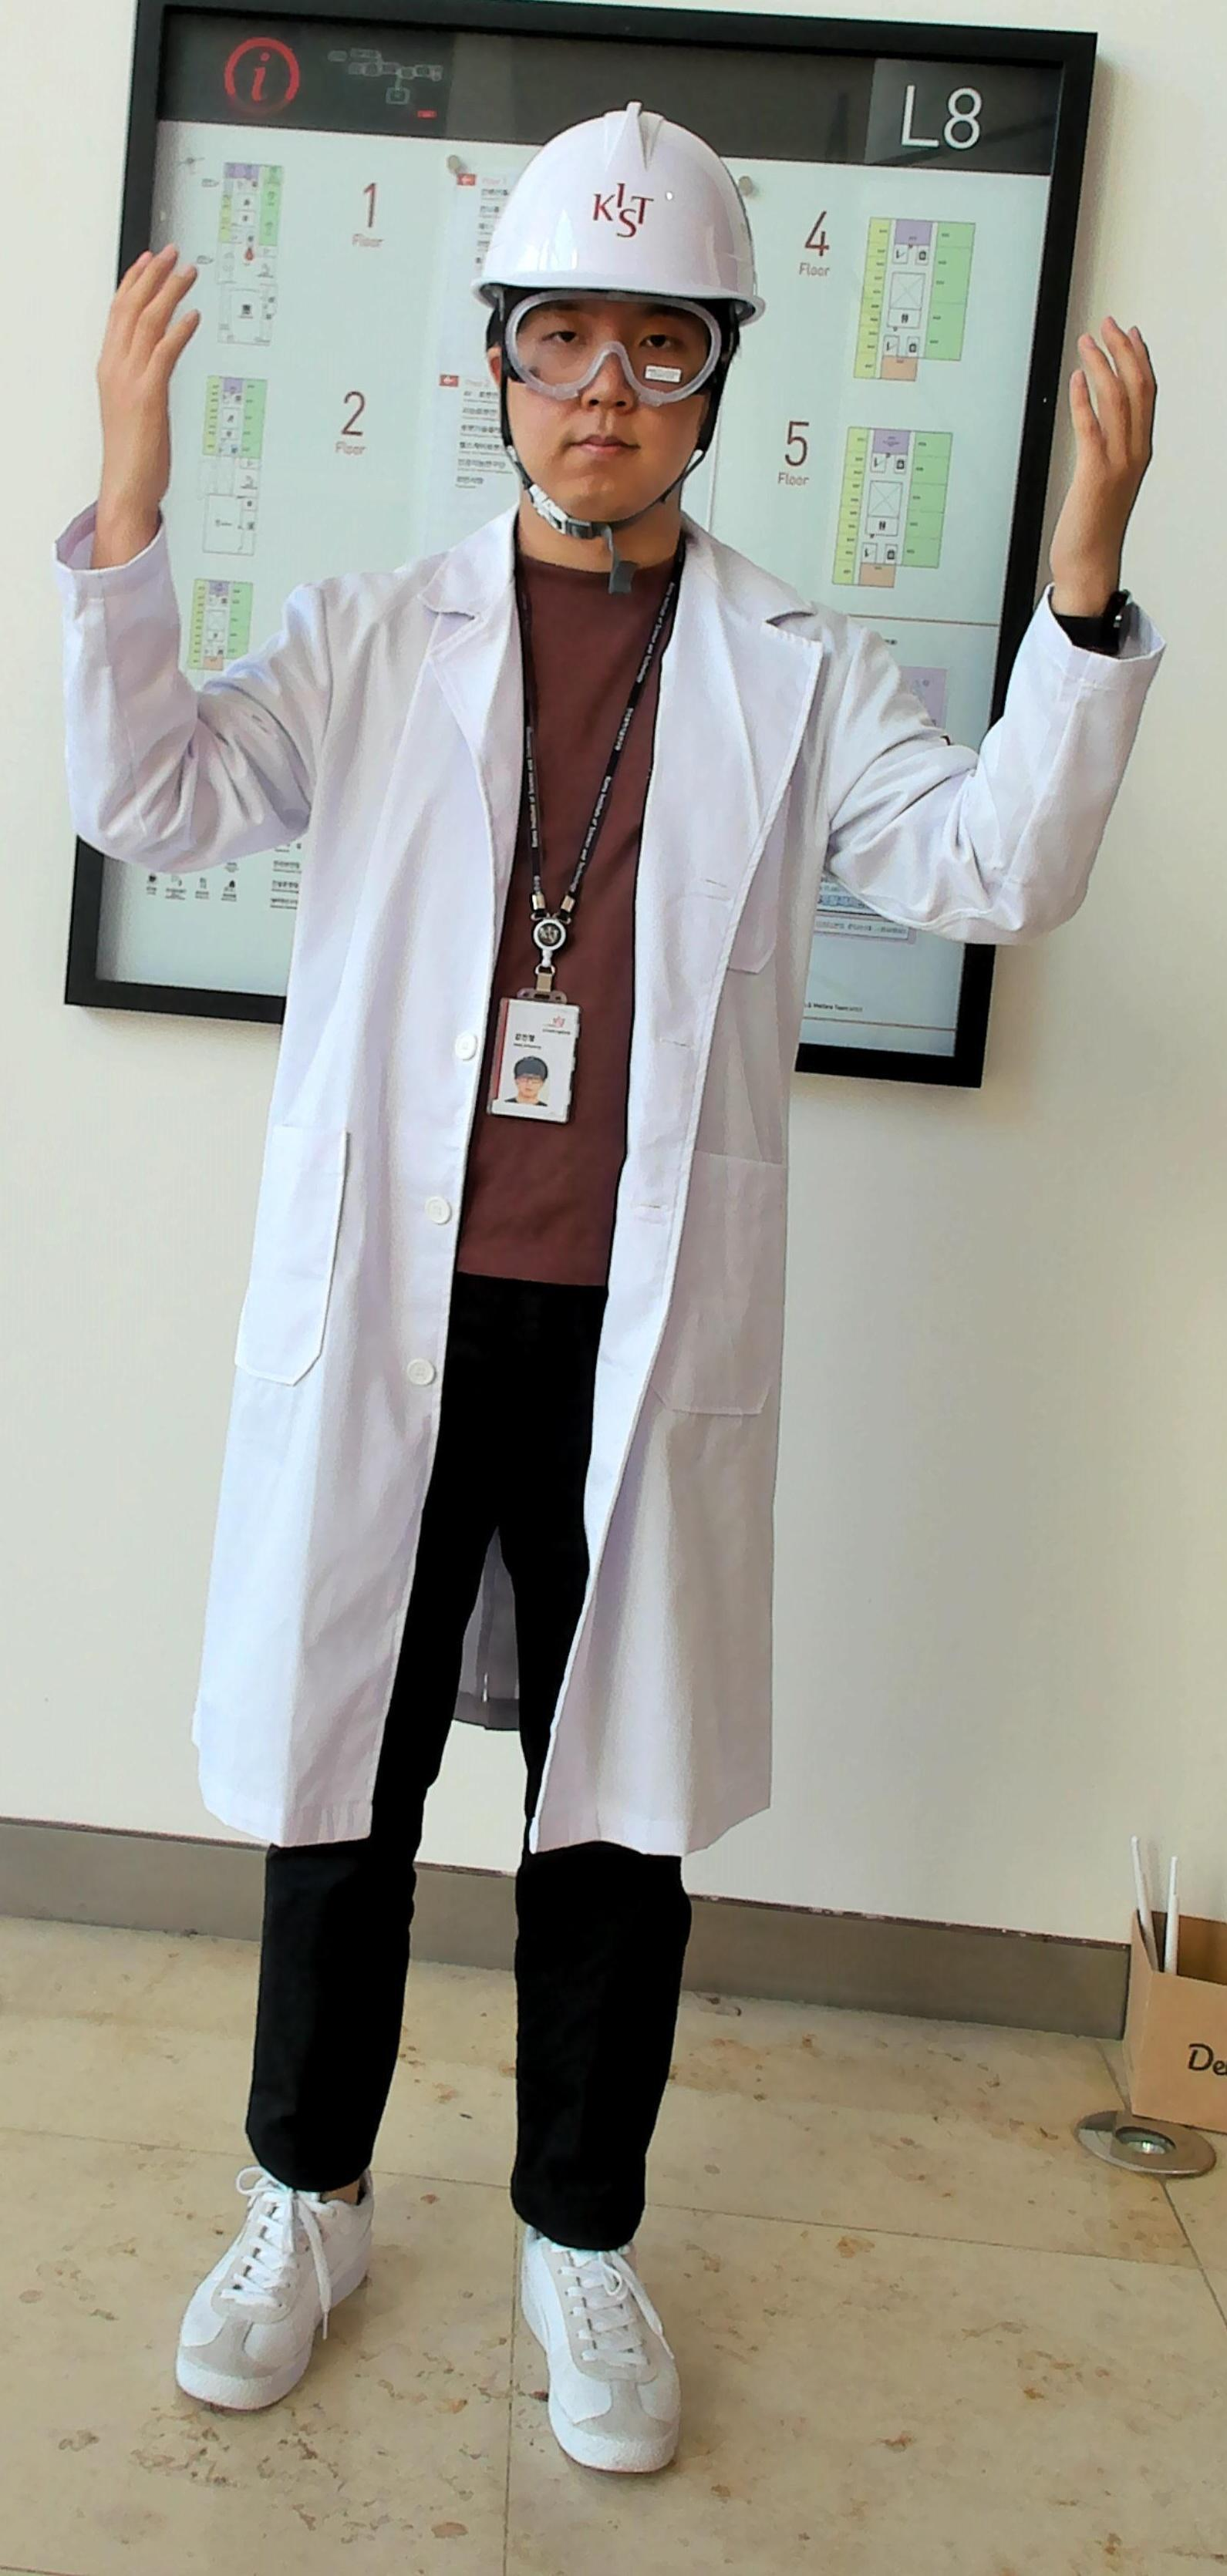lab_coat: (181, 672, 880, 1837)
